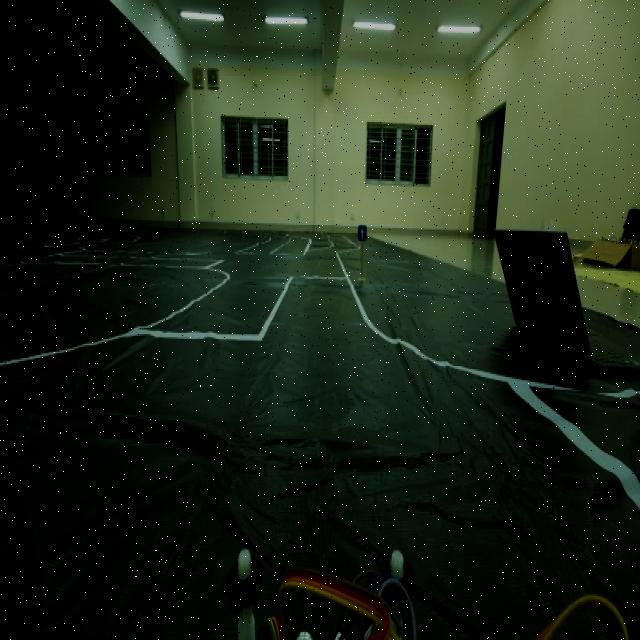onewayroad: (354, 216, 371, 250)
